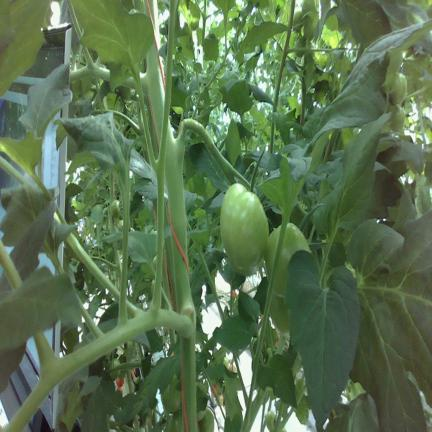6kp_peduncle: (164, 115, 221, 208)
6kp_petiole: (145, 261, 197, 385), (279, 32, 305, 71)
MainStem: (164, 119, 198, 430), (144, 0, 165, 153), (274, 0, 296, 107)
tomato: (220, 184, 268, 275), (265, 223, 310, 296), (269, 292, 289, 332), (161, 375, 181, 412), (390, 72, 407, 104), (390, 104, 405, 132), (166, 410, 183, 431), (199, 409, 214, 431), (265, 410, 275, 431), (111, 358, 120, 380), (110, 200, 120, 218), (117, 220, 123, 230), (218, 394, 223, 405)
